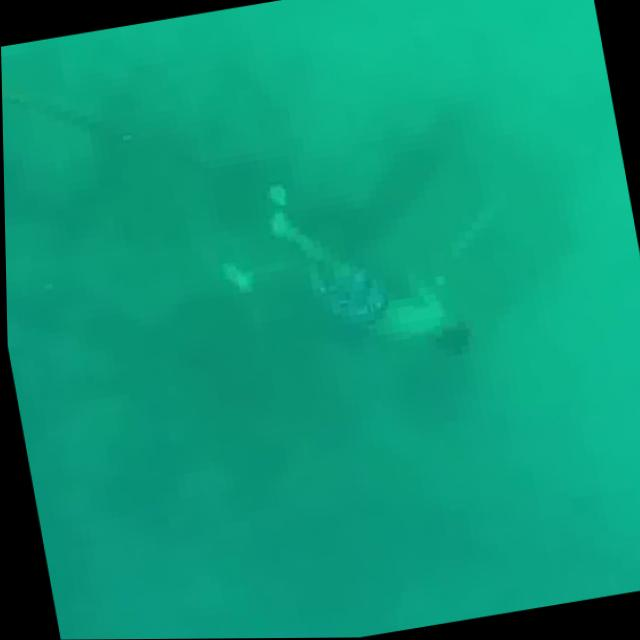human: (201, 139, 515, 403)
